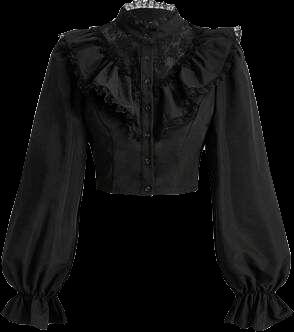Bodice: (60, 0, 240, 196)
Neckline: (95, 4, 205, 89)
Sleeve: (203, 42, 293, 331), (1, 35, 88, 329)
Sleeveline: (59, 37, 83, 100), (214, 45, 240, 89), (15, 290, 58, 299), (234, 289, 277, 298)
Waistline: (62, 27, 241, 139), (96, 186, 197, 196)
